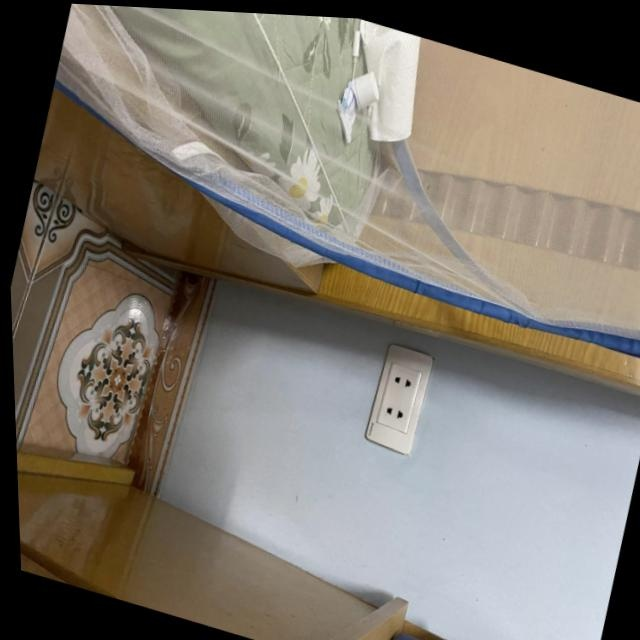outlet: (359, 338, 437, 457)
